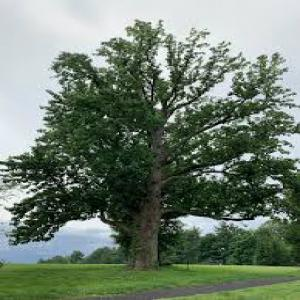Tree: (0, 15, 296, 272)
